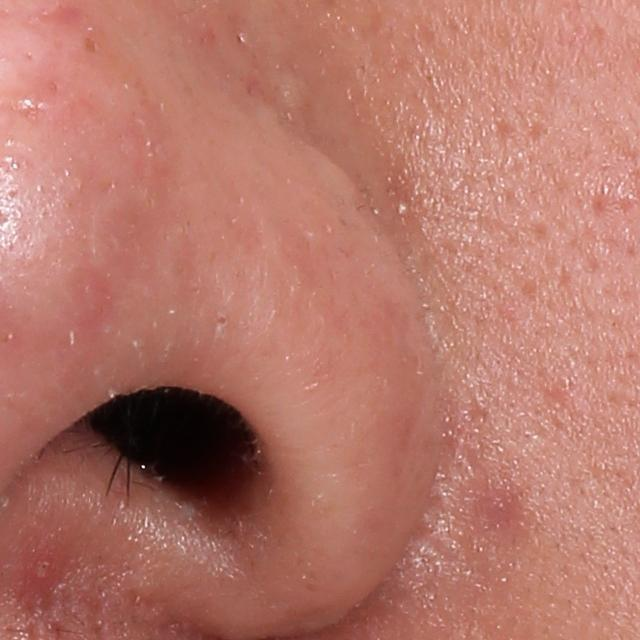comedo: (213, 311, 233, 329)
hypertrophic_scar: (276, 73, 311, 114)
